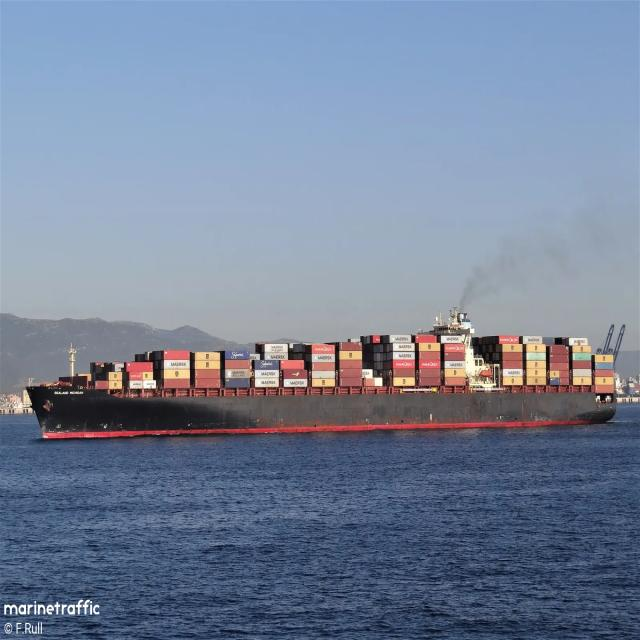Cargo: (26, 309, 616, 438)
